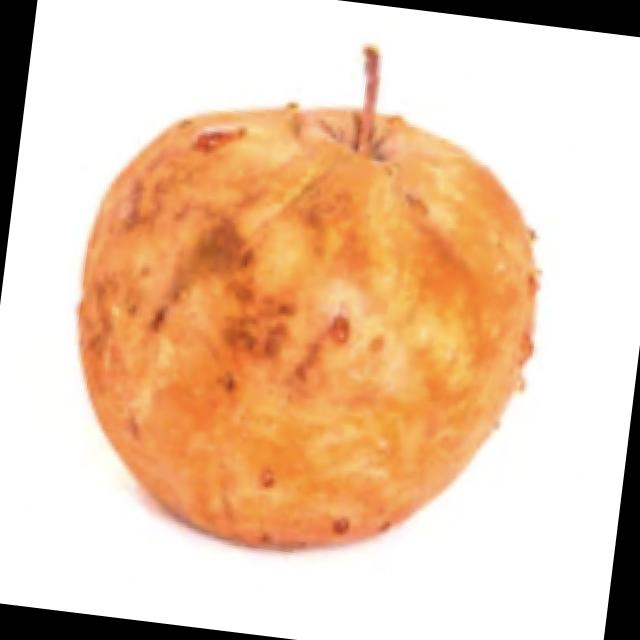rotten_apple: (50, 27, 569, 577)
